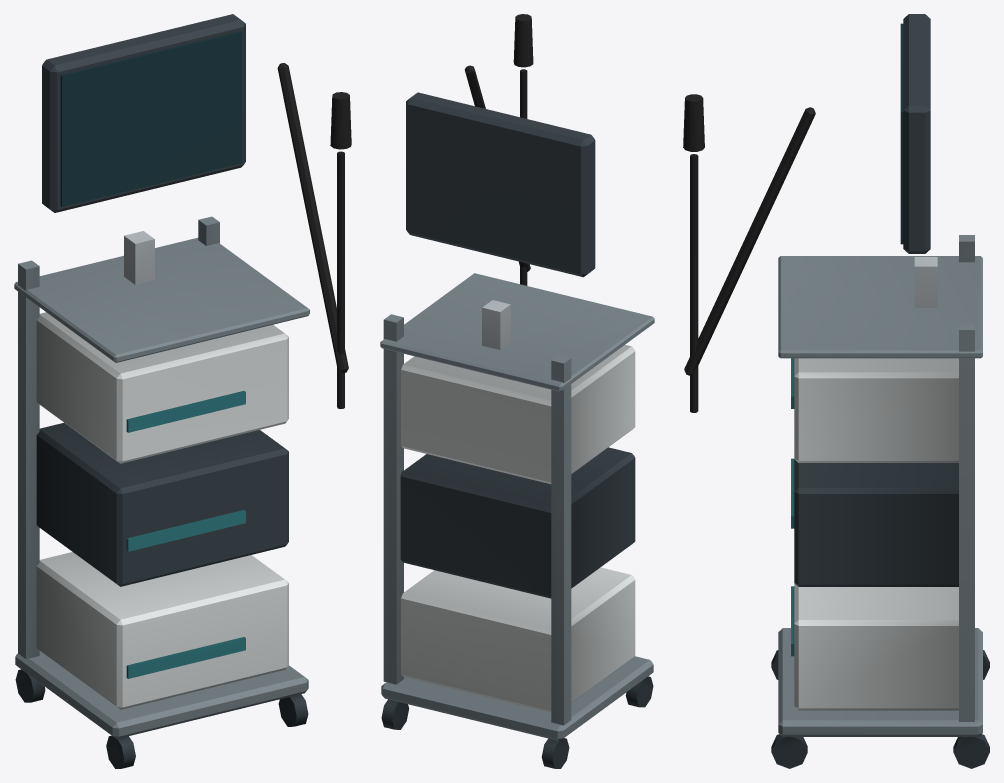
File: endoscope.glb
3 views of the same model, side by side, from view 1: azimuth 30°, elevation 25°; view 2: azimuth 150°, elevation 25°; view 3: azimuth 270°, elevation 25° (orthographic). The views are drawn at different scales.
Visible parts, largest first — view 1: units, cart, processor, screen, monitor, scope, panel, wheels, mast; view 2: units, cart, monitor, processor, scope, wheels, mast; view 3: units, cart, processor, scope, monitor, wheels, mast, screen, panel.
Boxes of the visible parts, x1=… form: units: x1=36, y1=312, x2=288, y2=709; cart: x1=14, y1=216, x2=309, y2=738; processor: x1=36, y1=423, x2=288, y2=586; screen: x1=60, y1=31, x2=242, y2=206; monitor: x1=42, y1=14, x2=245, y2=212; scope: x1=277, y1=63, x2=351, y2=408; panel: x1=126, y1=391, x2=245, y2=678; wheels: x1=15, y1=669, x2=308, y2=768; mast: x1=124, y1=231, x2=154, y2=284; units: x1=400, y1=345, x2=635, y2=712; cart: x1=380, y1=273, x2=654, y2=740; monitor: x1=406, y1=92, x2=595, y2=277; processor: x1=400, y1=447, x2=635, y2=598; scope: x1=464, y1=14, x2=533, y2=285; wheels: x1=381, y1=676, x2=653, y2=768; mast: x1=482, y1=300, x2=510, y2=349; units: x1=794, y1=358, x2=958, y2=710; cart: x1=778, y1=235, x2=982, y2=736; processor: x1=794, y1=459, x2=958, y2=586; scope: x1=683, y1=94, x2=815, y2=412; monitor: x1=903, y1=14, x2=930, y2=253; wheels: x1=771, y1=650, x2=989, y2=768; mast: x1=914, y1=257, x2=937, y2=307; screen: x1=900, y1=23, x2=903, y2=244; panel: x1=791, y1=358, x2=794, y2=656.
Bounding box in the file's own units: 0.5 × 1.62 × 0.674.
